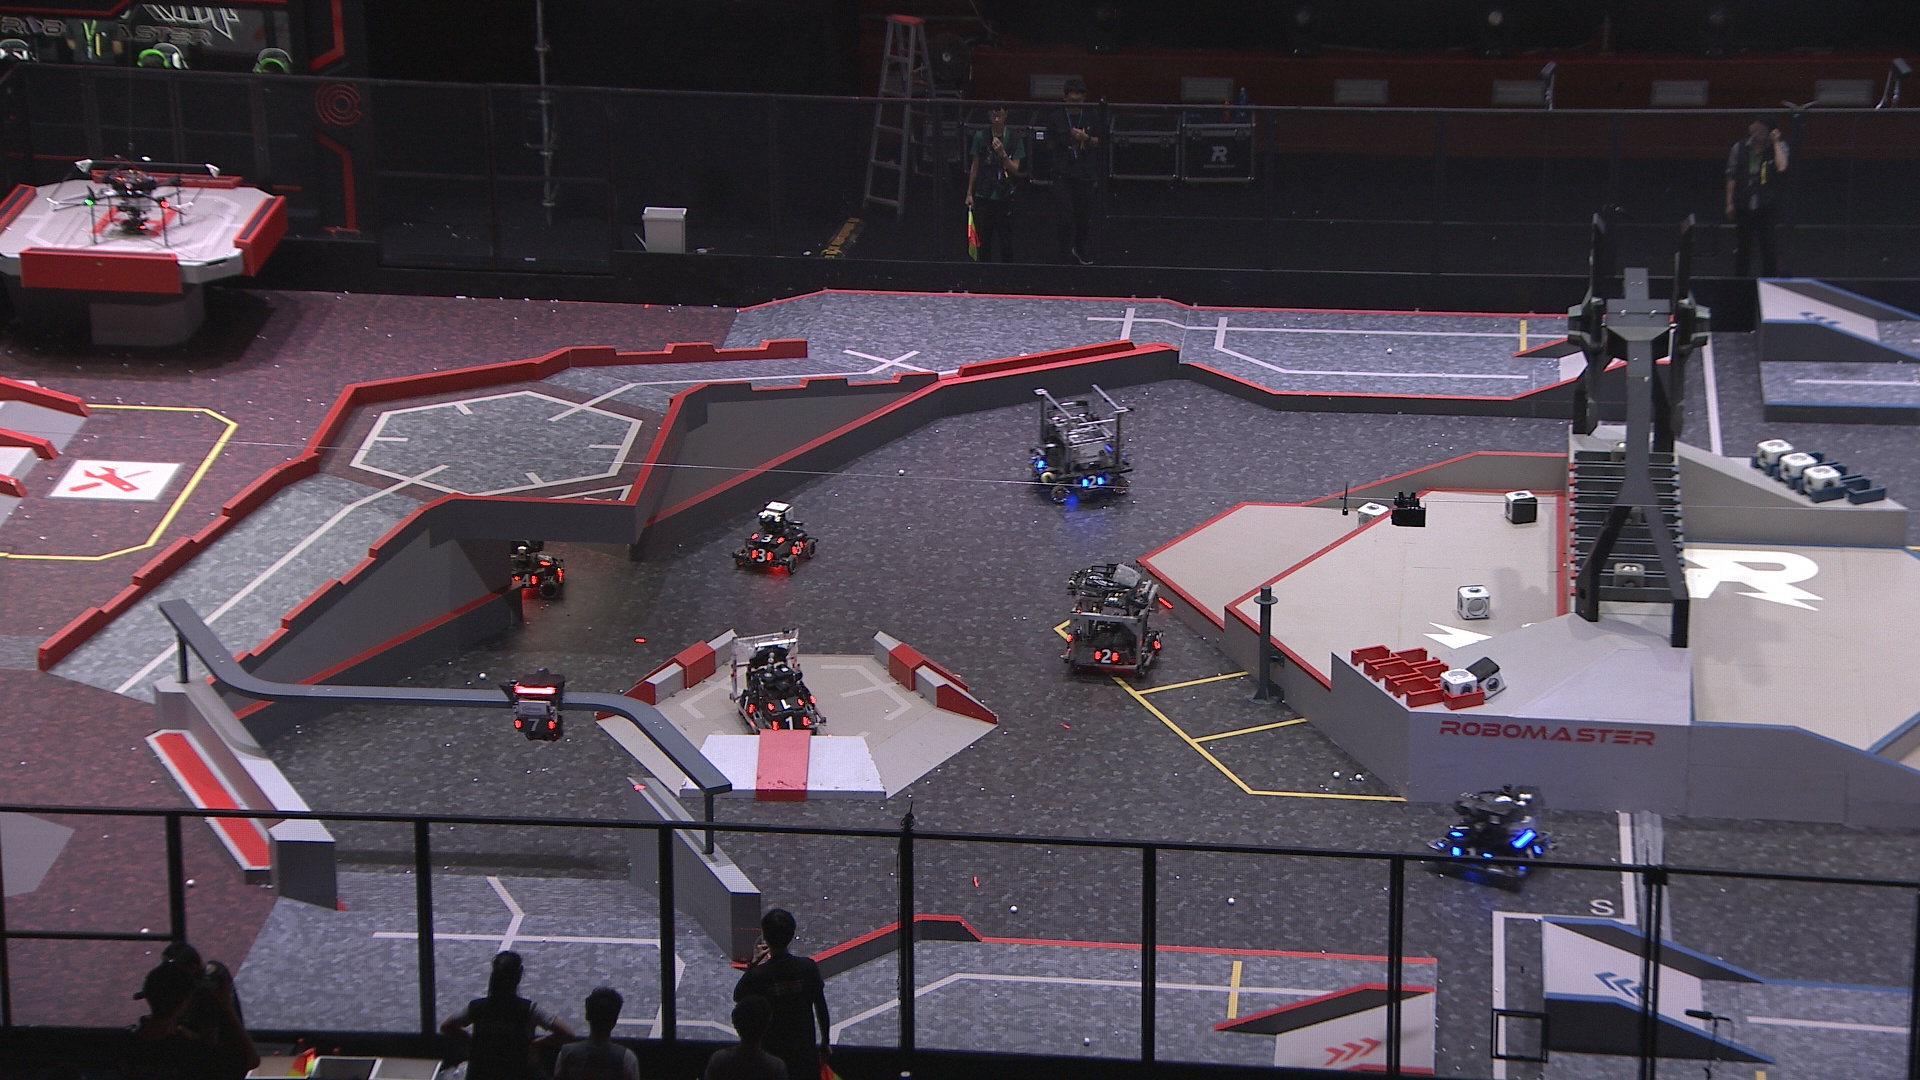armor: (513, 716, 556, 735), (766, 698, 808, 712), (1451, 845, 1491, 860), (771, 716, 808, 732), (750, 531, 787, 546), (1092, 647, 1120, 666), (1519, 844, 1544, 862), (510, 574, 539, 589), (1081, 473, 1106, 491), (737, 692, 756, 713), (1448, 822, 1470, 839), (749, 547, 775, 562), (789, 541, 807, 559), (1026, 454, 1044, 471), (1150, 632, 1164, 651), (538, 551, 555, 566)
car: (1425, 785, 1553, 887), (1022, 386, 1131, 505), (1064, 560, 1164, 679), (724, 629, 825, 735), (731, 500, 820, 575), (485, 537, 567, 603)
watcher: (498, 669, 567, 742)
